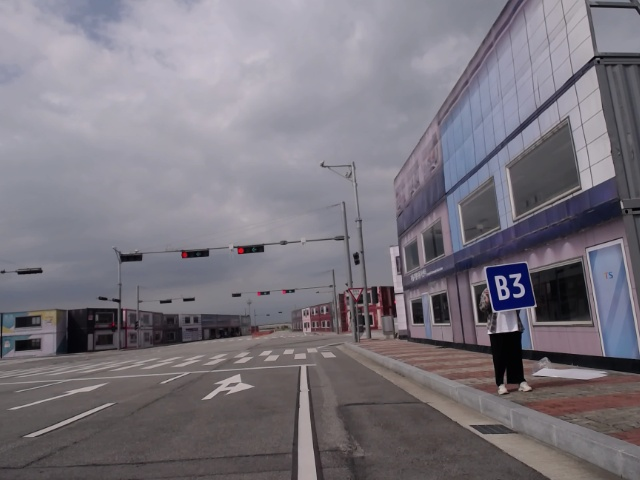delivery_b3: (483, 264, 537, 311)
left_green_4: (177, 247, 212, 261), (236, 243, 267, 255), (255, 289, 273, 297), (280, 287, 298, 295)
